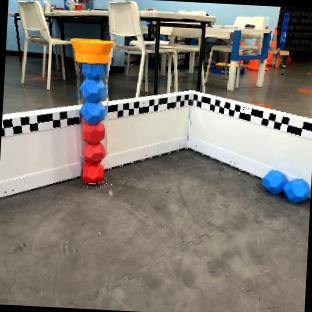V5_BLUE: (262, 169, 310, 202), (80, 62, 106, 122)
V5_RED: (83, 161, 103, 183), (81, 123, 104, 142)
